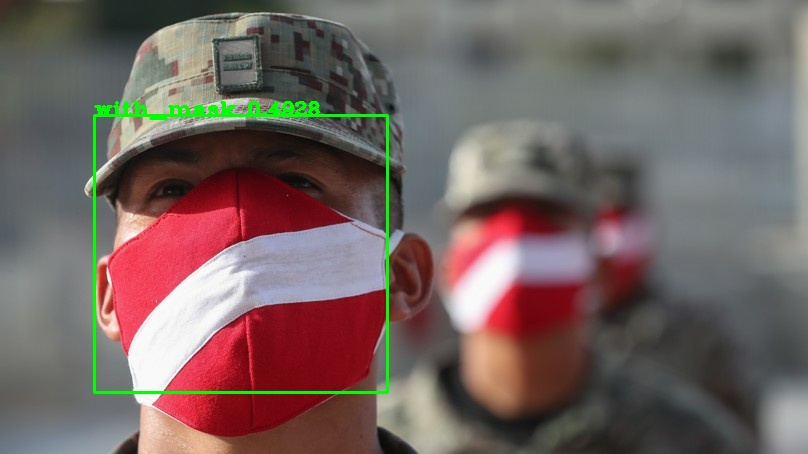with_mask: (104, 102, 412, 402), (438, 159, 606, 341), (587, 147, 672, 302)
